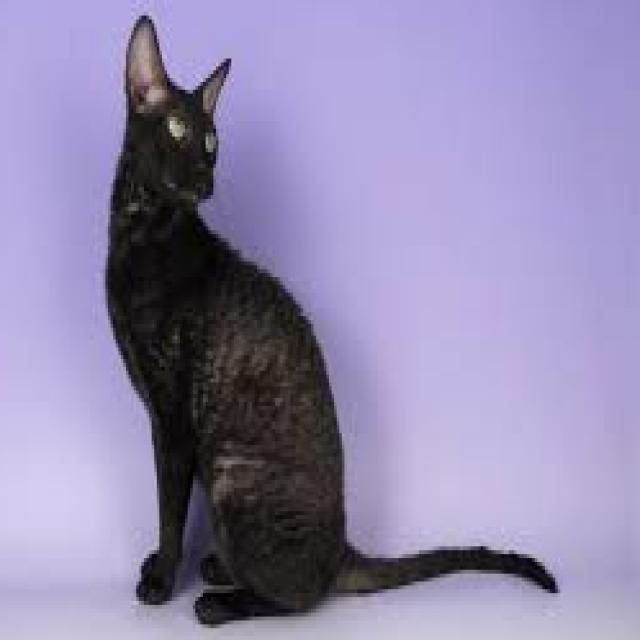Cornish Rex: (102, 9, 564, 635)
